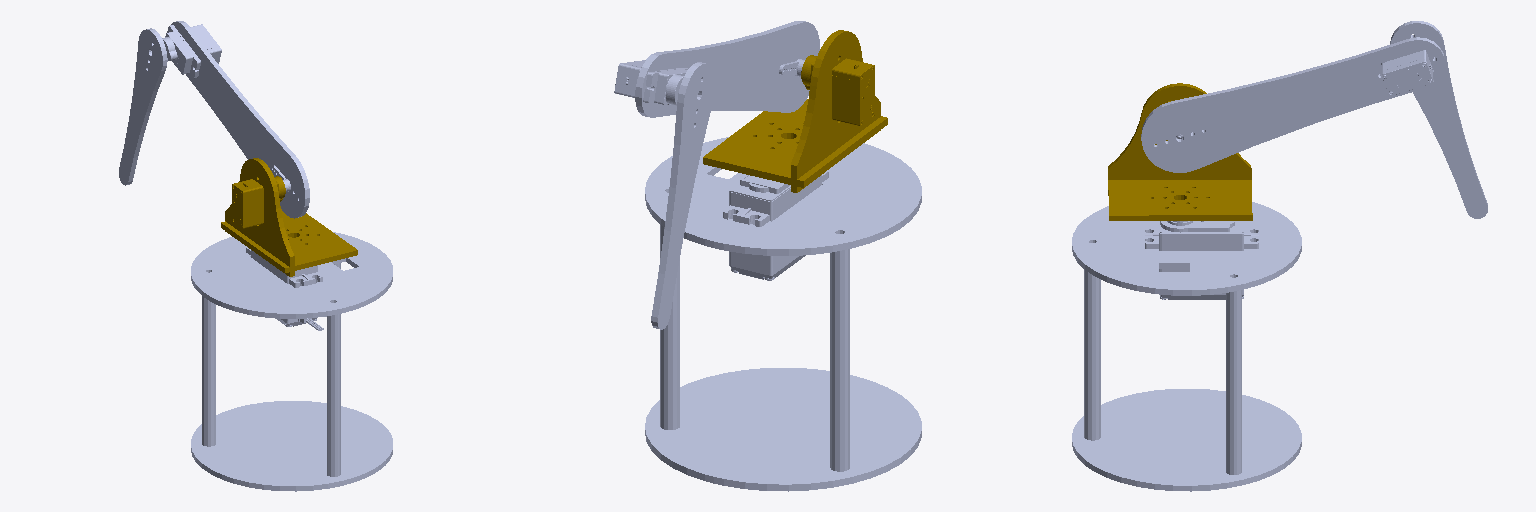
The robot description file, URDF, robot "maniassem":
<robot
  name="maniassem">
  <link
    name="base_link">
    <inertial>
      <origin
        xyz="-0.00033136 0.0019922 0.065103"
        rpy="0 0 0" />
      <mass
        value="0.093814" />
      <inertia
        ixx="0.00025876"
        ixy="-2.1212E-08"
        ixz="1.1115E-06"
        iyy="0.00025453"
        iyz="-6.0546E-06"
        izz="0.00011387" />
    </inertial>
    <visual>
      <origin
        xyz="0 0 0"
        rpy="0 0 0" />
      <geometry>
        <mesh
          filename="package://maniassem/meshes/base_link.STL" />
      </geometry>
      <material
        name="">
        <color
          rgba="0.79216 0.81961 0.93333 1" />
      </material>
    </visual>
    <collision>
      <origin
        xyz="0 0 0"
        rpy="0 0 0" />
      <geometry>
        <mesh
          filename="package://maniassem/meshes/base_link.STL" />
      </geometry>
    </collision>
  </link>
  <link
    name="link1">
    <inertial>
      <origin
        xyz="-0.0098022 6.2783E-05 0.013103"
        rpy="0 0 0" />
      <mass
        value="0.028751" />
      <inertia
        ixx="1.0669E-05"
        ixy="2.9422E-08"
        ixz="4.0347E-06"
        iyy="1.3028E-05"
        iyz="-2.7995E-08"
        izz="1.3428E-05" />
    </inertial>
    <visual>
      <origin
        xyz="0 0 0"
        rpy="0 0 0" />
      <geometry>
        <mesh
          filename="package://maniassem/meshes/link1.STL" />
      </geometry>
      <material
        name="">
        <color
          rgba="0.64706 0.51765 0 1" />
      </material>
    </visual>
    <collision>
      <origin
        xyz="0 0 0"
        rpy="0 0 0" />
      <geometry>
        <mesh
          filename="package://maniassem/meshes/link1.STL" />
      </geometry>
    </collision>
  </link>
  <joint
    name="joint1"
    type="continuous">
    <origin
      xyz="-0.0006 -0.0031 0.1289"
      rpy="3.1289 1.5708 0" />
    <parent
      link="base_link" />
    <child
      link="link1" />
    <axis
      xyz="1 0 0" />
  </joint>
  <link
    name="link2">
    <inertial>
      <origin
        xyz="0.00089053 0.075544 -4.2678E-05"
        rpy="0 0 0" />
      <mass
        value="0.021497" />
      <inertia
        ixx="4.6516E-05"
        ixy="6.7362E-07"
        ixz="-9.5036E-10"
        iyy="1.5344E-06"
        iyz="3.6151E-08"
        izz="4.6001E-05" />
    </inertial>
    <visual>
      <origin
        xyz="0 0 0"
        rpy="0 0 0" />
      <geometry>
        <mesh
          filename="package://maniassem/meshes/link2.STL" />
      </geometry>
      <material
        name="">
        <color
          rgba="0.79216 0.81961 0.93333 1" />
      </material>
    </visual>
    <collision>
      <origin
        xyz="0 0 0"
        rpy="0 0 0" />
      <geometry>
        <mesh
          filename="package://maniassem/meshes/link2.STL" />
      </geometry>
    </collision>
  </link>
  <joint
    name="joint2"
    type="continuous">
    <origin
      xyz="-0.030818 0.00019839 0.00105"
      rpy="1.5707 -1.5708 1.2475" />
    <parent
      link="link1" />
    <child
      link="link2" />
    <axis
      xyz="1 0 0" />
  </joint>
  <link
    name="link3">
    <inertial>
      <origin
        xyz="0.0016097 -7.4108E-05 0.031051"
        rpy="0 0 0" />
      <mass
        value="0.0051615" />
      <inertia
        ixx="4.6871E-06"
        ixy="-3.7657E-11"
        ixz="1.5778E-08"
        iyy="4.5526E-06"
        iyz="1.0519E-08"
        izz="1.4534E-07" />
    </inertial>
    <visual>
      <origin
        xyz="0 0 0"
        rpy="0 0 0" />
      <geometry>
        <mesh
          filename="package://maniassem/meshes/link3.STL" />
      </geometry>
      <material
        name="">
        <color
          rgba="0.79216 0.81961 0.93333 1" />
      </material>
    </visual>
    <collision>
      <origin
        xyz="0 0 0"
        rpy="0 0 0" />
      <geometry>
        <mesh
          filename="package://maniassem/meshes/link3.STL" />
      </geometry>
    </collision>
  </link>
  <joint
    name="joint3"
    type="continuous">
    <origin
      xyz="0.02195 0.1197 -0.0001"
      rpy="0.0000 1.4988E-15 -3.1416" />
    <parent
      link="link2" />
    <child
      link="link3" />
    <axis
      xyz="-1 0 0" />
  </joint>
  <gazebo>
    <plugin name="gazebo_ros_control" filename="libgazebo_ros_control.so">
      <robotNamespace>/</robotNamespace>
    </plugin>
  </gazebo>
</robot>

--- Render facts (derived) ---
Views: 3 orthographic renders of the robot side by side, from view 1: azimuth 30°, elevation 25°; view 2: azimuth 150°, elevation 25°; view 3: azimuth 270°, elevation 25°.
Robot: maniassem — 4 links, 3 joints (3 continuous); root link base_link; default pose: every joint at zero.
Visible links, largest first — view 1: base_link, link2, link1, link3; view 2: base_link, link1, link2, link3; view 3: base_link, link2, link1, link3.
Link boxes in pixels (x1,y1,x2,y2): base_link: (191,232,392,491); link2: (162,21,309,218); link1: (221,158,357,276); link3: (119,28,167,185); base_link: (645,137,921,491); link1: (703,30,887,192); link2: (614,21,819,117); link3: (651,62,715,329); base_link: (1072,202,1301,491); link2: (1141,37,1444,172); link1: (1108,83,1252,220); link3: (1390,21,1487,218).
Bounding box of the posed robot: 0.1099 × 0.1989 × 0.2108 m (x, y, z).
Meshes: 4 distinct files referenced, 4 mesh visuals loaded (4 binary STL).
